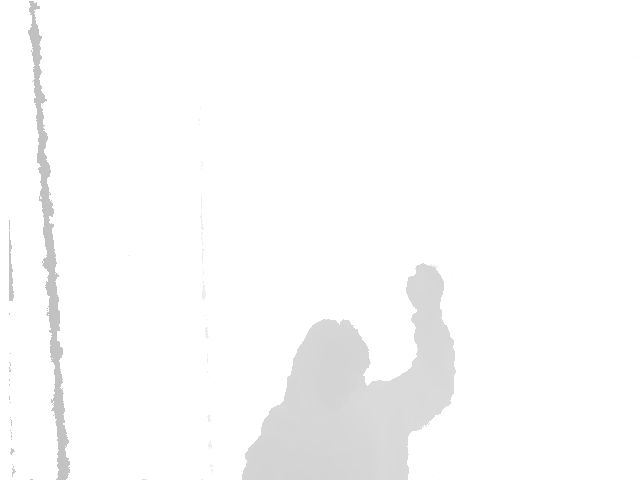hand: (404, 258, 447, 319)
head: (284, 318, 374, 393)
person: (236, 258, 458, 480)
